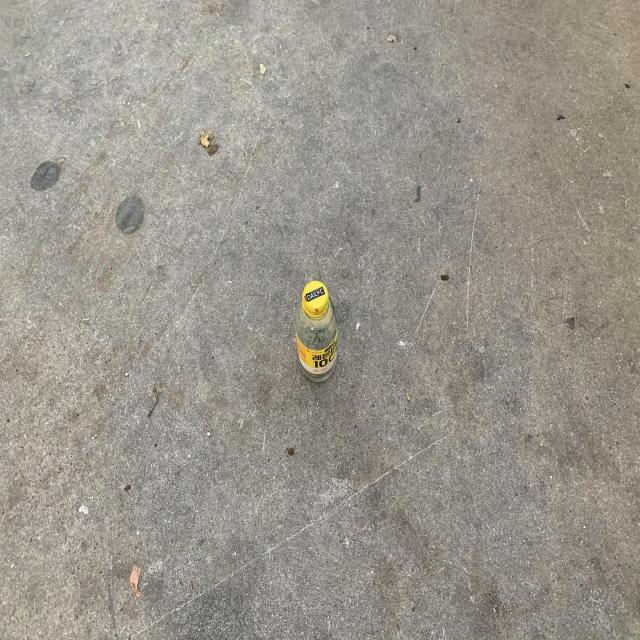glass: (295, 280, 338, 382)
